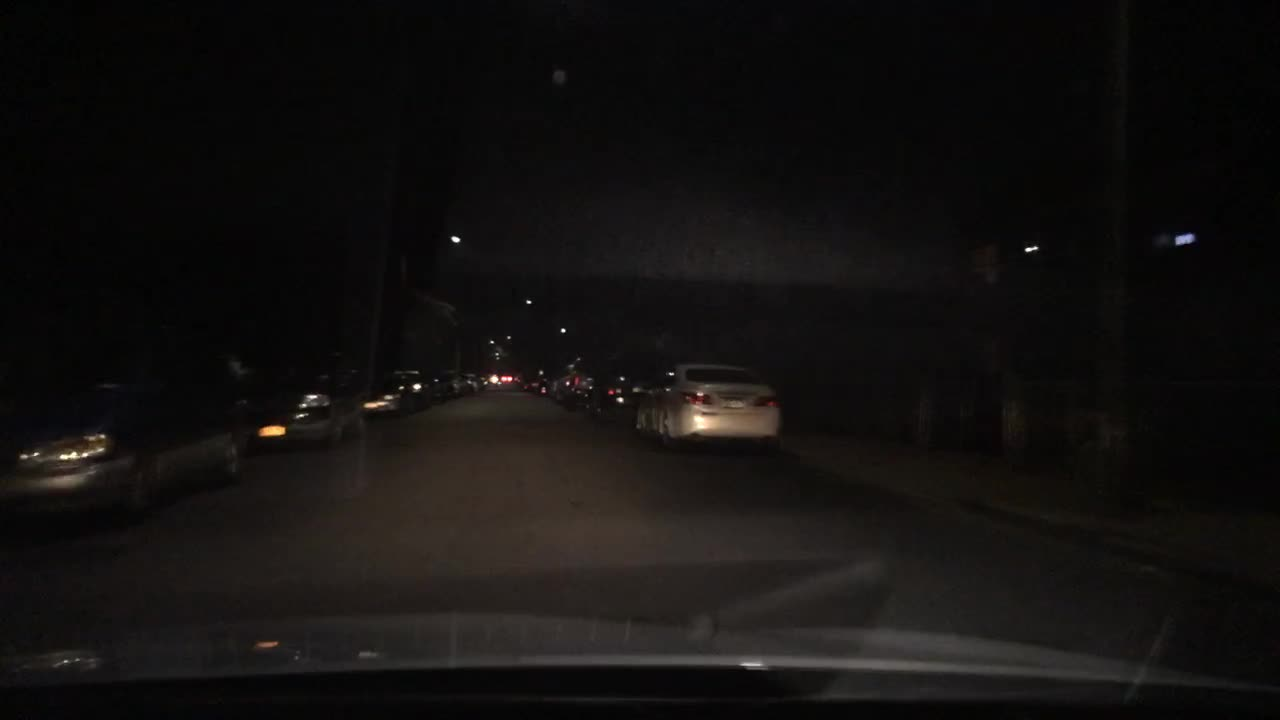car: (0, 381, 258, 517), (633, 360, 783, 447), (249, 353, 368, 450), (592, 368, 656, 424), (364, 370, 415, 414), (560, 363, 596, 406), (411, 374, 439, 405), (441, 370, 469, 393), (526, 371, 550, 394), (547, 371, 561, 396), (466, 374, 487, 389), (501, 373, 517, 385)
